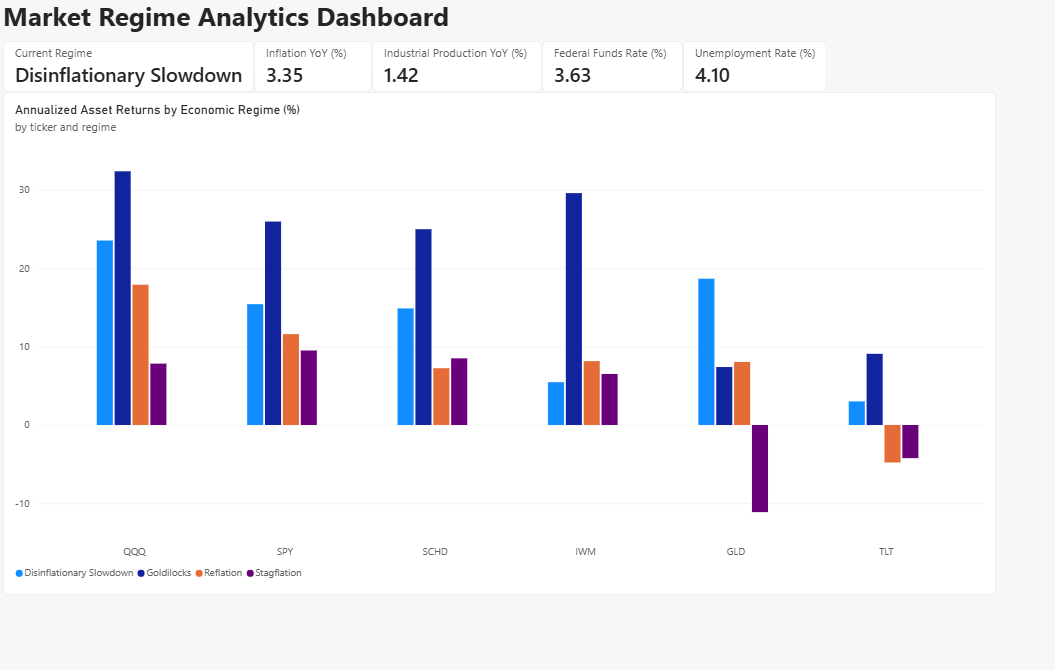

What the dashboard file says about the page in this screenshot:
{"tool":"powerbi","page":{"name":"Regime Overview","canvas":[1920,1080],"ordinal":0},"visuals":[{"type":"textbox","box":[10,0,1177.1,498.6],"z":0},{"type":"cardVisual","fields":{"Data":["Min(analytics vw_latest_macro_conditions.regime)"]},"box":[10,61.4,358.6,72.9],"z":1000},{"type":"cardVisual","fields":{"Data":["Sum(analytics vw_latest_macro_conditions.inflation_yoy_pct)"]},"box":[368.6,61.4,168.6,72.9],"z":2000},{"type":"cardVisual","fields":{"Data":["Sum(analytics vw_latest_macro_conditions.industrial_production_yoy_pct)"]},"box":[537.1,61.4,242.9,72.9],"z":3000},{"type":"cardVisual","fields":{"Data":["Sum(analytics vw_latest_macro_conditions.fed_funds_rate_pct)"]},"box":[780,61.4,201.4,72.9],"z":4000},{"type":"cardVisual","fields":{"Data":["Sum(analytics vw_latest_macro_conditions.unemployment_rate_pct)"]},"box":[981.4,61.4,205.7,72.9],"z":5000},{"type":"clusteredColumnChart","fields":{"Category":["analytics vw_regime_performance_summary.ticker"],"Series":["analytics vw_regime_performance_summary.regime"],"Y":["Sum(analytics vw_regime_performance_summary.annualized_return_pct)"]},"box":[10,134.3,1418.6,718.6],"z":5001}]}

Visuals, with their boxes on the page's 1920x1080 design canvas (x1, y1, x2, y2). These are canvas units, not pixel positions in the 1055x670 screenshot, which may show the page scaled, cropped or inside an application window:
textbox: <region>10, 0, 1187, 499</region>
cardVisual - Min(analytics vw_latest_macro_conditions.regime): <region>10, 61, 369, 134</region>
cardVisual - Sum(analytics vw_latest_macro_conditions.inflation_yoy_pct): <region>369, 61, 537, 134</region>
cardVisual - Sum(analytics vw_latest_macro_conditions.industrial_production_yoy_pct): <region>537, 61, 780, 134</region>
cardVisual - Sum(analytics vw_latest_macro_conditions.fed_funds_rate_pct): <region>780, 61, 981, 134</region>
cardVisual - Sum(analytics vw_latest_macro_conditions.unemployment_rate_pct): <region>981, 61, 1187, 134</region>
clusteredColumnChart - analytics vw_regime_performance_summary.ticker x analytics vw_regime_performance_summary.regime: <region>10, 134, 1429, 853</region>
